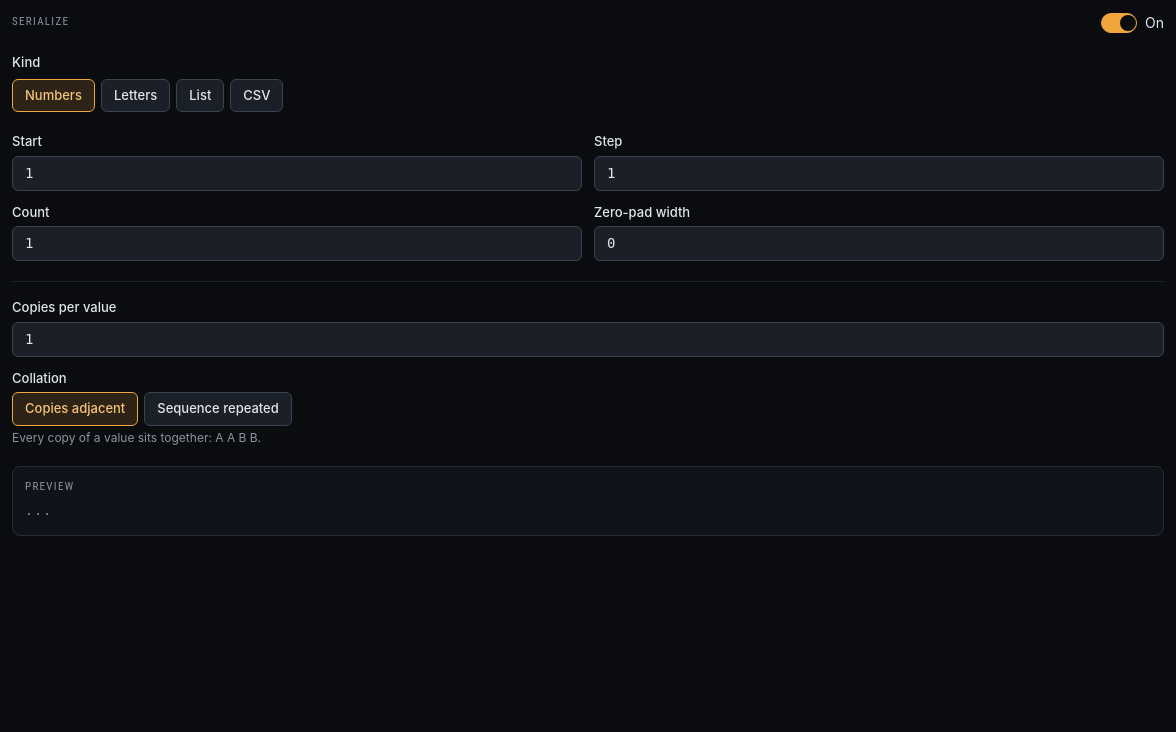
Test: SequenceEditor -- kind switching shows/hides the right controls › Numbers shows start/step/count/pad; Letters shows start-letter/step/count; List shows a textarea; CSV shows a file input
Check: the number field labelled "Start" is shown, box 12,156 -> 582,190
Check: the number field labelled "Zero-pad width" is shown, box 594,226 -> 1164,261
Click the radio button labelled "Letters" at (136, 95), box 101,78 -> 170,112
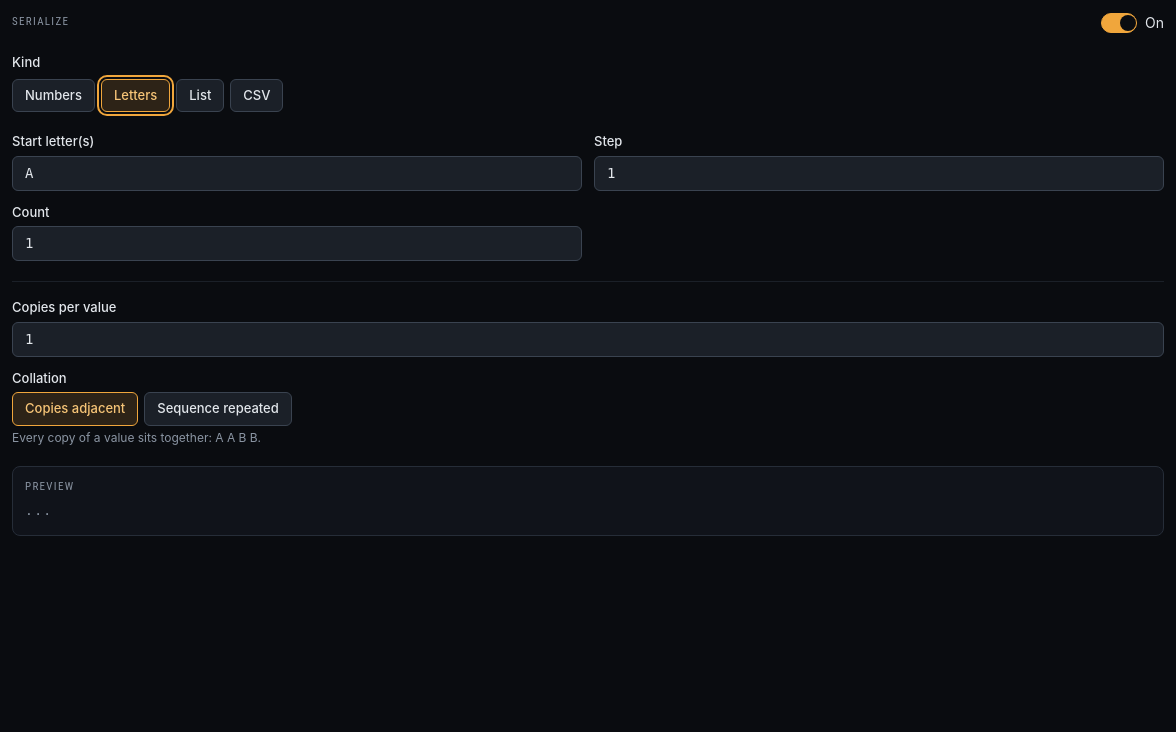
Check: the field labelled "Start letter(s)" is shown, box 12,156 -> 582,190
Check: the label labelled "Zero-pad width" is gone
Click the radio button labelled "List" at (200, 95), box 176,78 -> 224,112
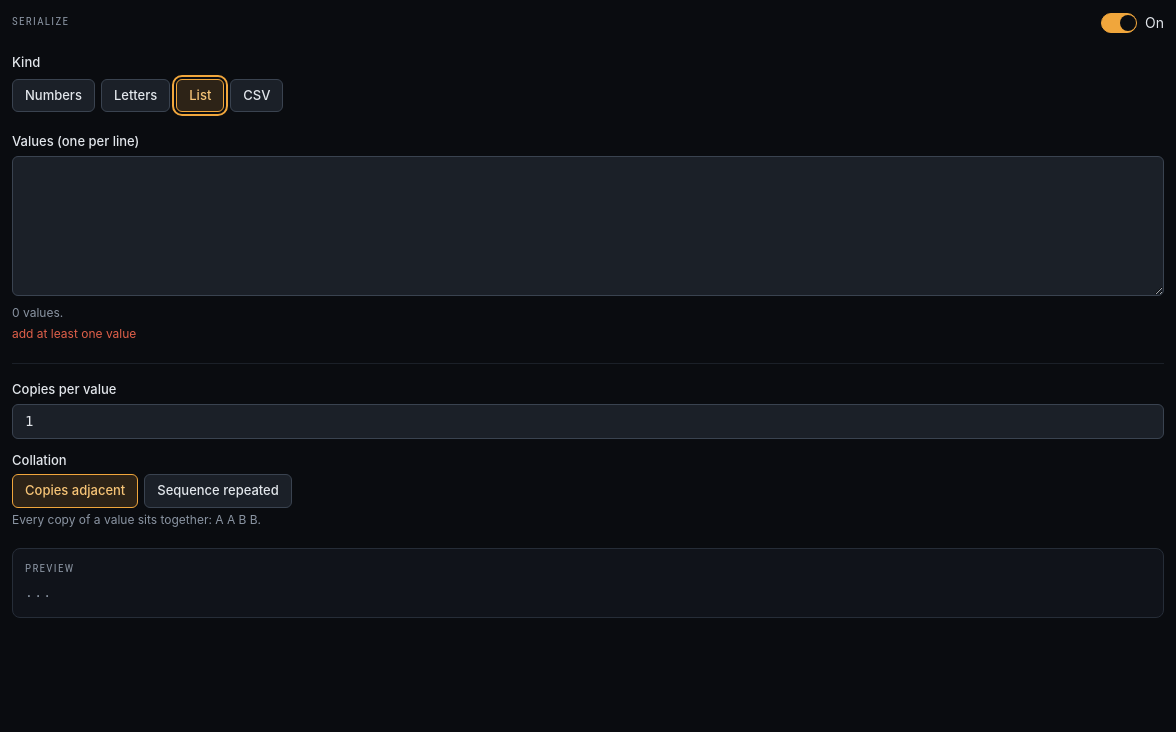
Check: the text box labelled "Values (one per line)" is shown, box 12,156 -> 1164,296
Check: the label labelled "Start letter(s)" is gone
Click the radio button labelled "CSV" at (257, 95), box 230,78 -> 284,112
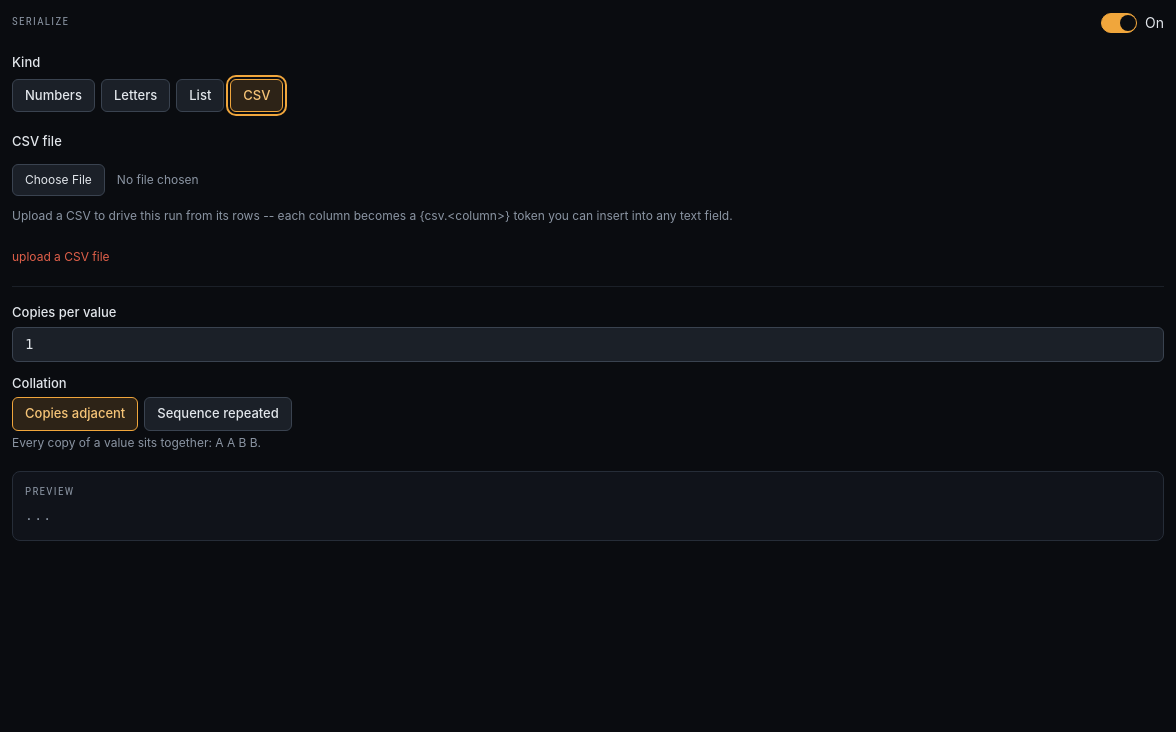
Check: the file field named "Upload CSV" is shown, box 12,164 -> 1164,196
Check: the label labelled "Values (one per line)" is gone
